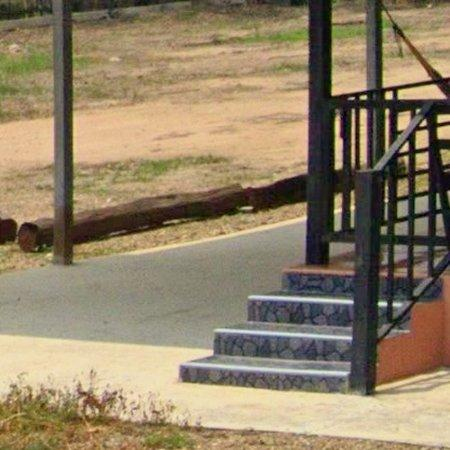stairs: (180, 266, 355, 392), (377, 280, 450, 384), (379, 272, 422, 336)
